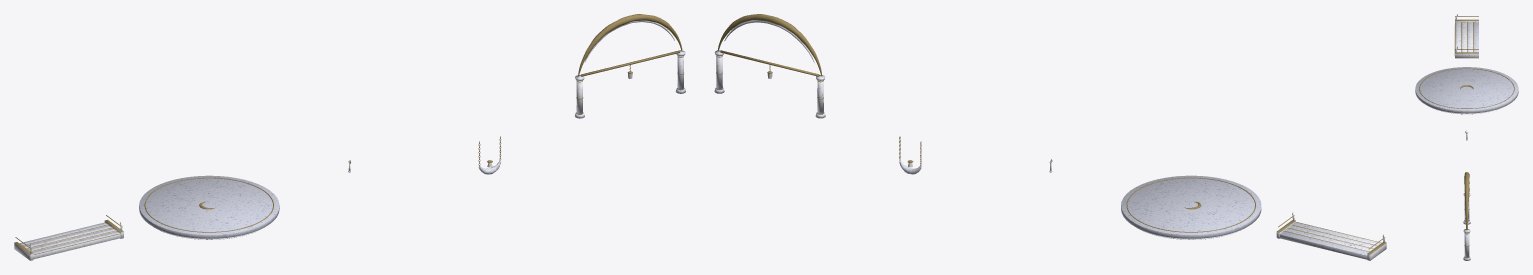
Rendered from MoonBridge.fbx.
3 views of the same model, side by side, from view 1: azimuth 30°, elevation 25°; view 2: azimuth 150°, elevation 25°; view 3: azimuth 270°, elevation 25° (orthographic). The views are drawn at different scales.
Visible parts, largest first — view 1: MoonLanding, MoonStair, MoonGate; view 2: MoonLanding, MoonStair, MoonGate; view 3: MoonLanding, MoonStair, MoonGate.
Part boxes in pixels (box(x1,y1,x2,y2)): MoonLanding: box(139, 175, 279, 239); MoonStair: box(14, 215, 123, 260); MoonGate: box(574, 14, 685, 118); MoonLanding: box(1121, 175, 1261, 239); MoonStair: box(1276, 212, 1386, 260); MoonGate: box(714, 14, 825, 118); MoonLanding: box(1415, 67, 1518, 114); MoonStair: box(1454, 14, 1478, 58); MoonGate: box(1463, 172, 1470, 260).
Size of the model in its own units: 284 by 50.79 by 52.
Materials: 2 (1 with a texture image).
